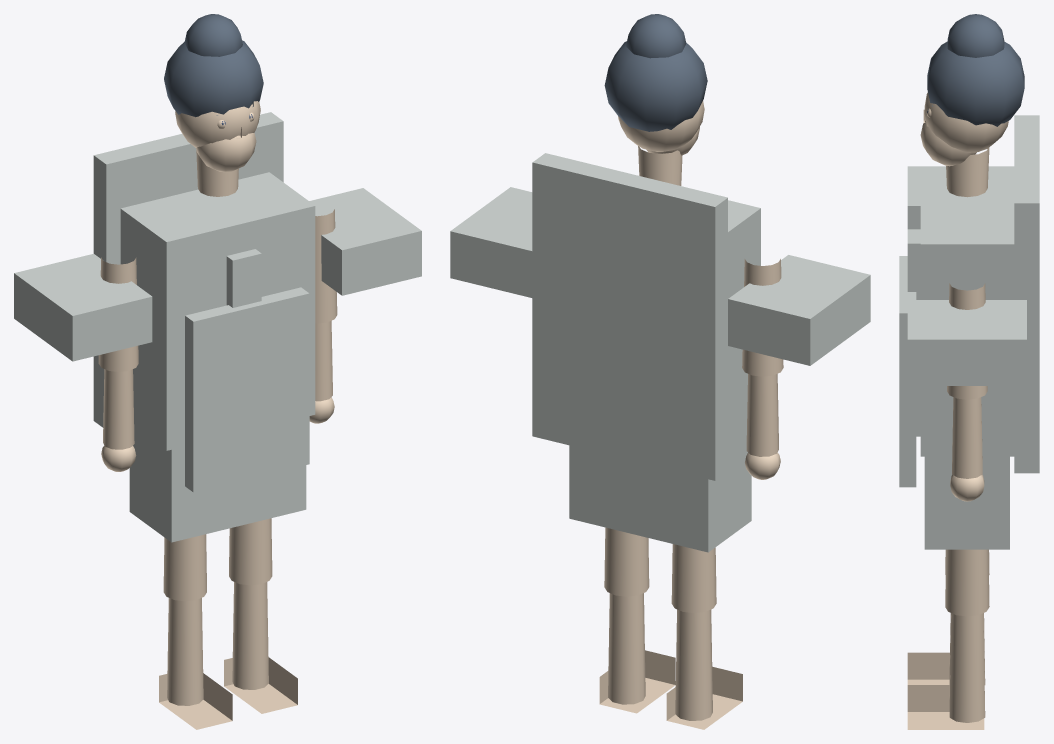
The model's file is body.glb.
3 renders of one model, left to right at view 1: azimuth 30°, elevation 25°; view 2: azimuth 150°, elevation 25°; view 3: azimuth 270°, elevation 25°, orthographic. The views are drawn at different scales.
Parts seen in each view (by area): view 1: Cloth, Skin, Hair; view 2: Cloth, Skin, Hair; view 3: Cloth, Skin, Hair.
Boxes of the visible parts, x1,y1,x2,y2 form: Cloth: [14, 112, 421, 542]; Skin: [98, 101, 337, 729]; Hair: [164, 14, 263, 117]; Cloth: [450, 153, 870, 552]; Skin: [599, 101, 783, 729]; Hair: [604, 14, 707, 131]; Cloth: [899, 115, 1039, 549]; Skin: [907, 92, 1008, 729]; Hair: [927, 14, 1024, 126].
Size of the model in its own units: 0.963 by 1.78 by 0.33.
